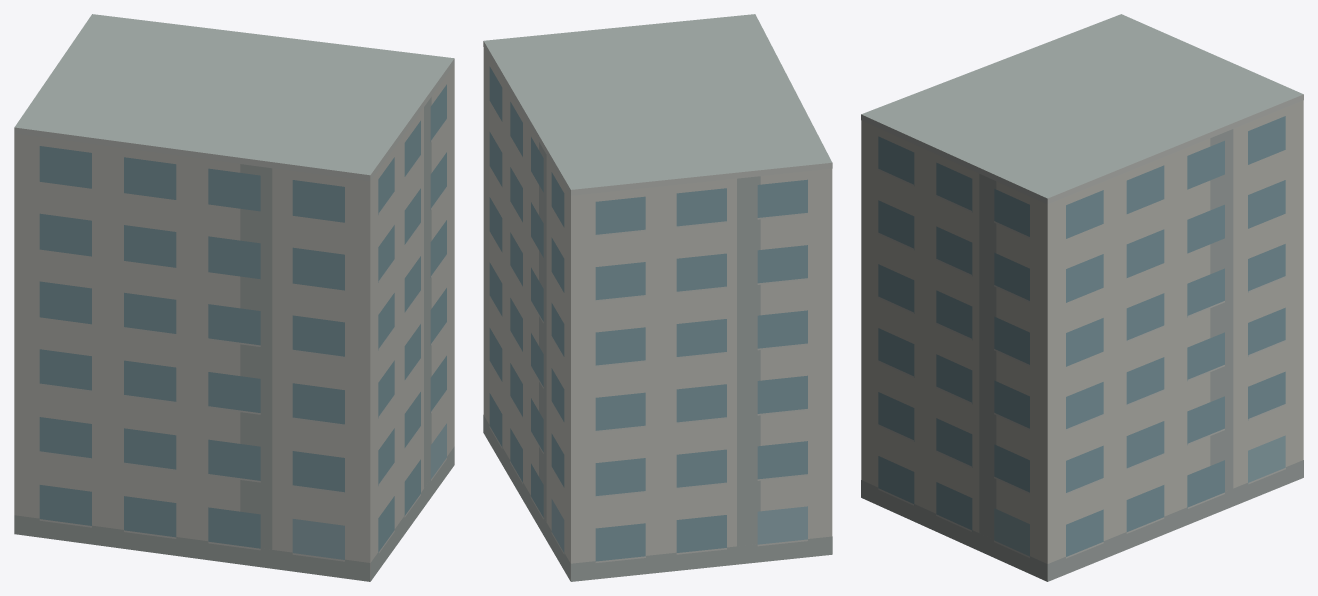
The model's file is survey-upis-32891642.glb.
3 renders of one model, left to right at view 1: azimuth 30°, elevation 25°; view 2: azimuth 150°, elevation 25°; view 3: azimuth 270°, elevation 25°, orthographic. The views are drawn at different scales.
Visible parts, largest first — view 1: survey-upis-32891642.tmp; view 2: survey-upis-32891642.tmp; view 3: survey-upis-32891642.tmp.
Boxes of the visible parts, box(x1,y1,x2,y2) form: survey-upis-32891642.tmp: box(14, 14, 454, 581); survey-upis-32891642.tmp: box(483, 14, 832, 581); survey-upis-32891642.tmp: box(861, 14, 1303, 581).
Size of the model in its own units: 16.47 by 15.95 by 16.7.
